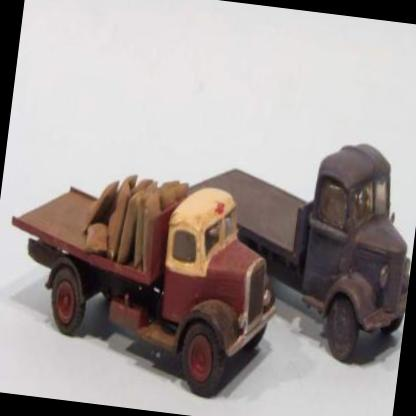truck: (1, 152, 297, 400)
